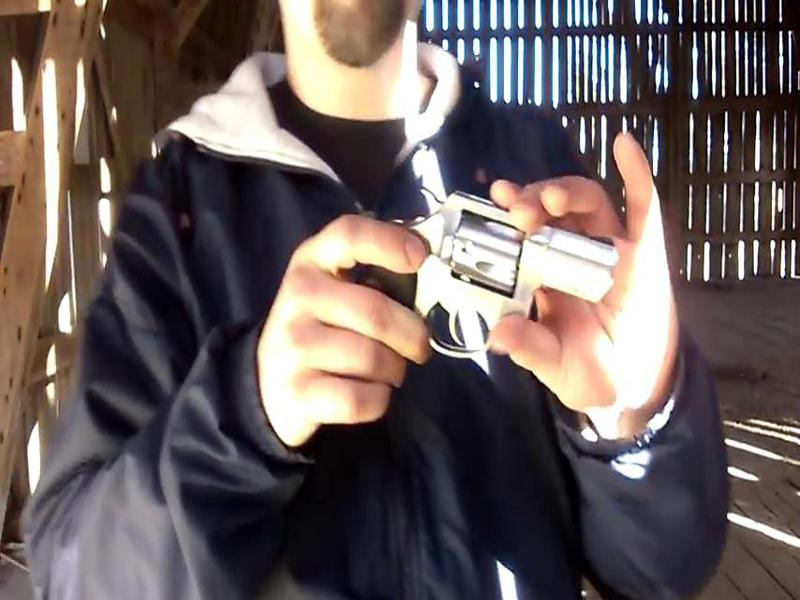Revolver: (347, 165, 618, 384)
